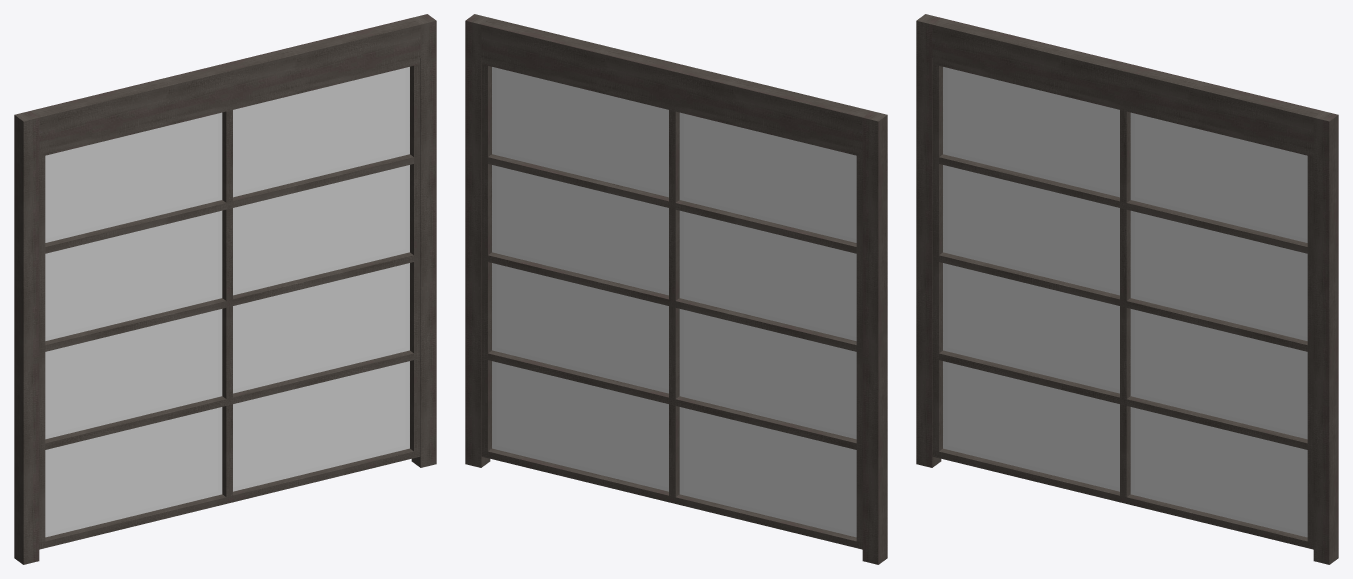
The model's file is es-polycaB_h2000_karacha.fbx.
3 views of the same model, side by side, from view 1: azimuth 30°, elevation 25°; view 2: azimuth 150°, elevation 25°; view 3: azimuth 330°, elevation 25° (orthographic).
Parts seen in each view (by area): view 1: es-polycaB_h2000_karacha; view 2: es-polycaB_h2000_karacha; view 3: es-polycaB_h2000_karacha.
Boxes of the visible parts, x1,y1,x2,y2 form: es-polycaB_h2000_karacha: (14,14,436,564); es-polycaB_h2000_karacha: (465,14,887,564); es-polycaB_h2000_karacha: (916,14,1338,564).
Bounding box in the file's own units: 195 × 200 × 7.5.
Materials: 3 (2 with a texture image).
